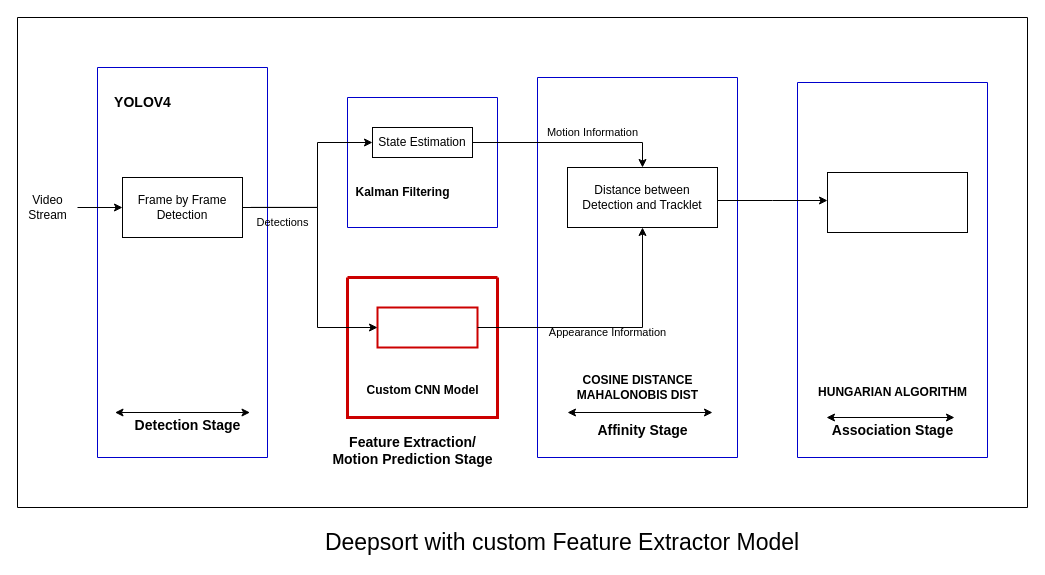
This 1045x575 diagram has some shape labels left out. Each missing label, with the centre of its shape:
Association of Detection and Tracklet: [897,202]
Feature Extractor: [427,327]
